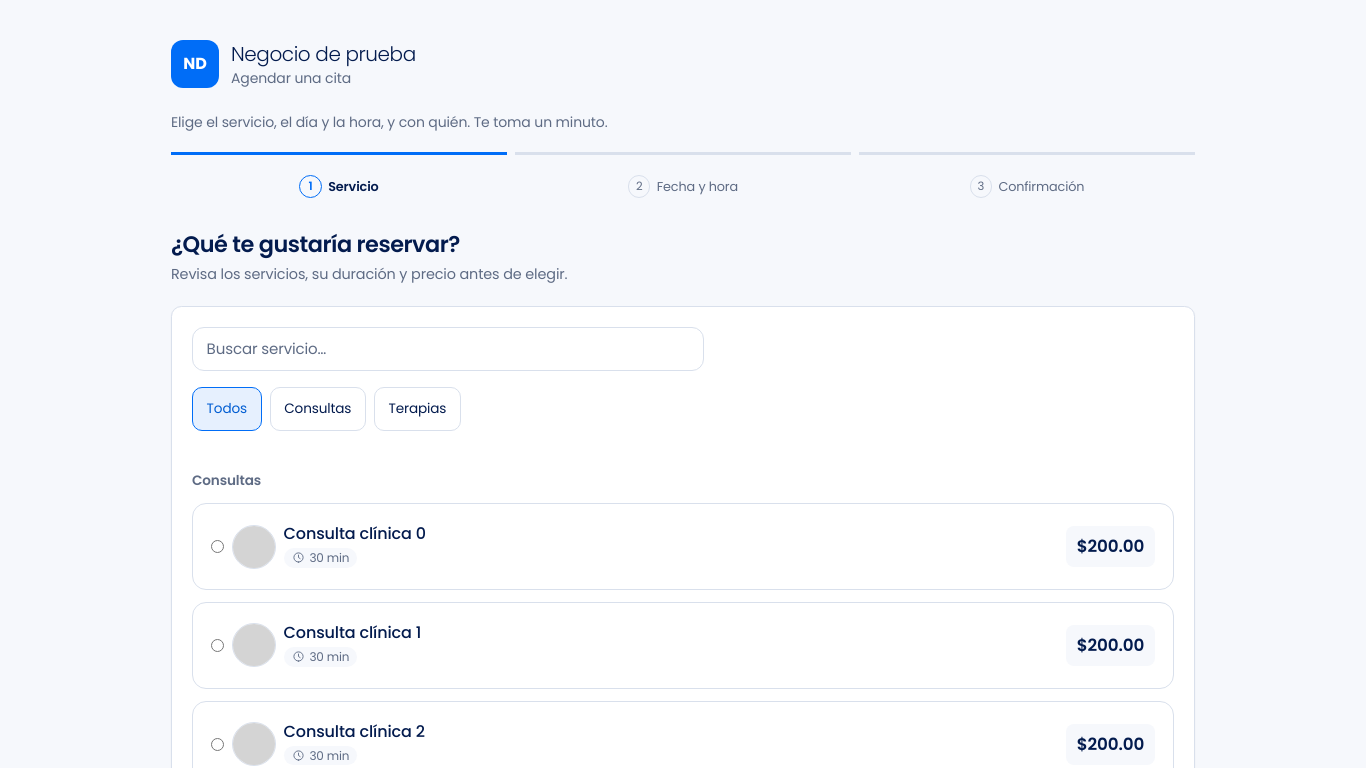
Test: agenda pública por pasos › busca sin distinguir acentos y filtra catálogos grandes por categoría
Type "clinica" into the search field with placeholder "Buscar servicio…" at (448, 349), box [192, 327, 704, 371]
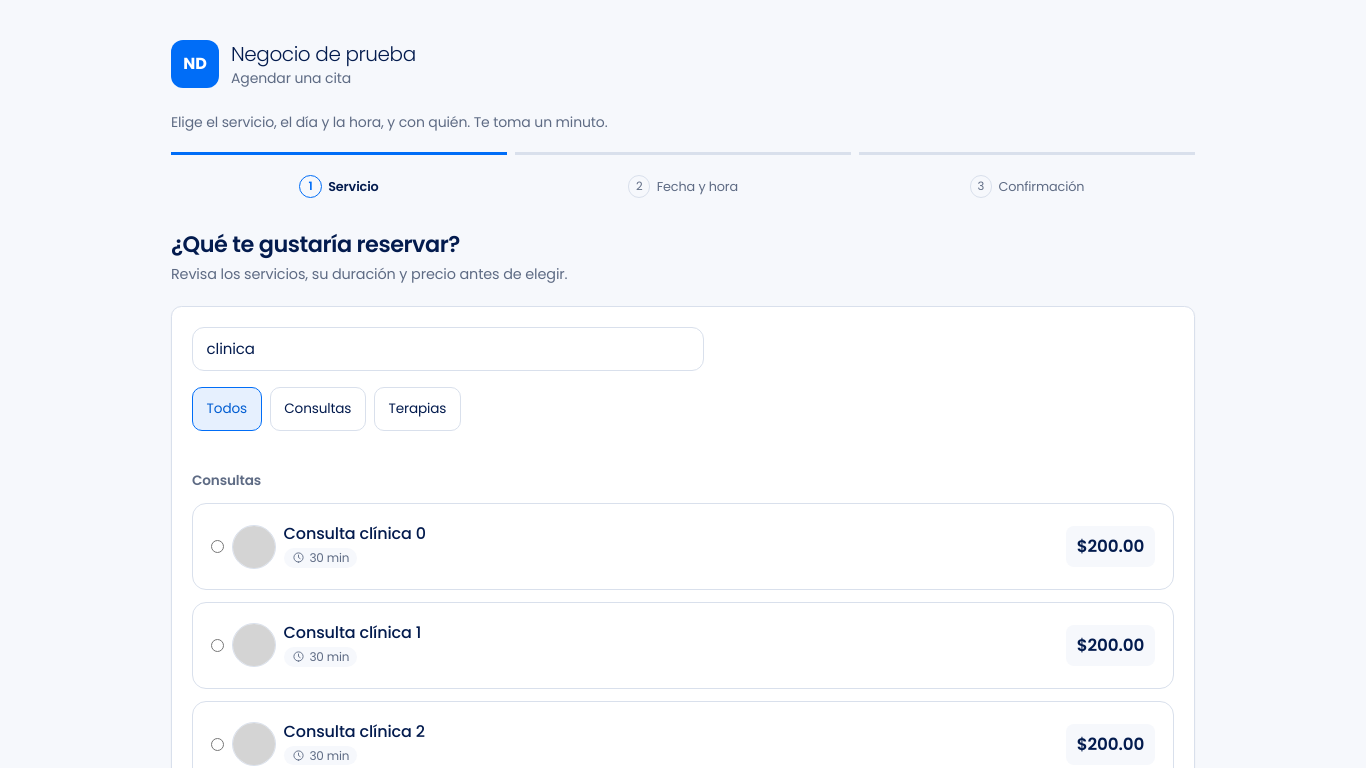
Click the button "Terapias" at (417, 409), box [374, 387, 461, 431]
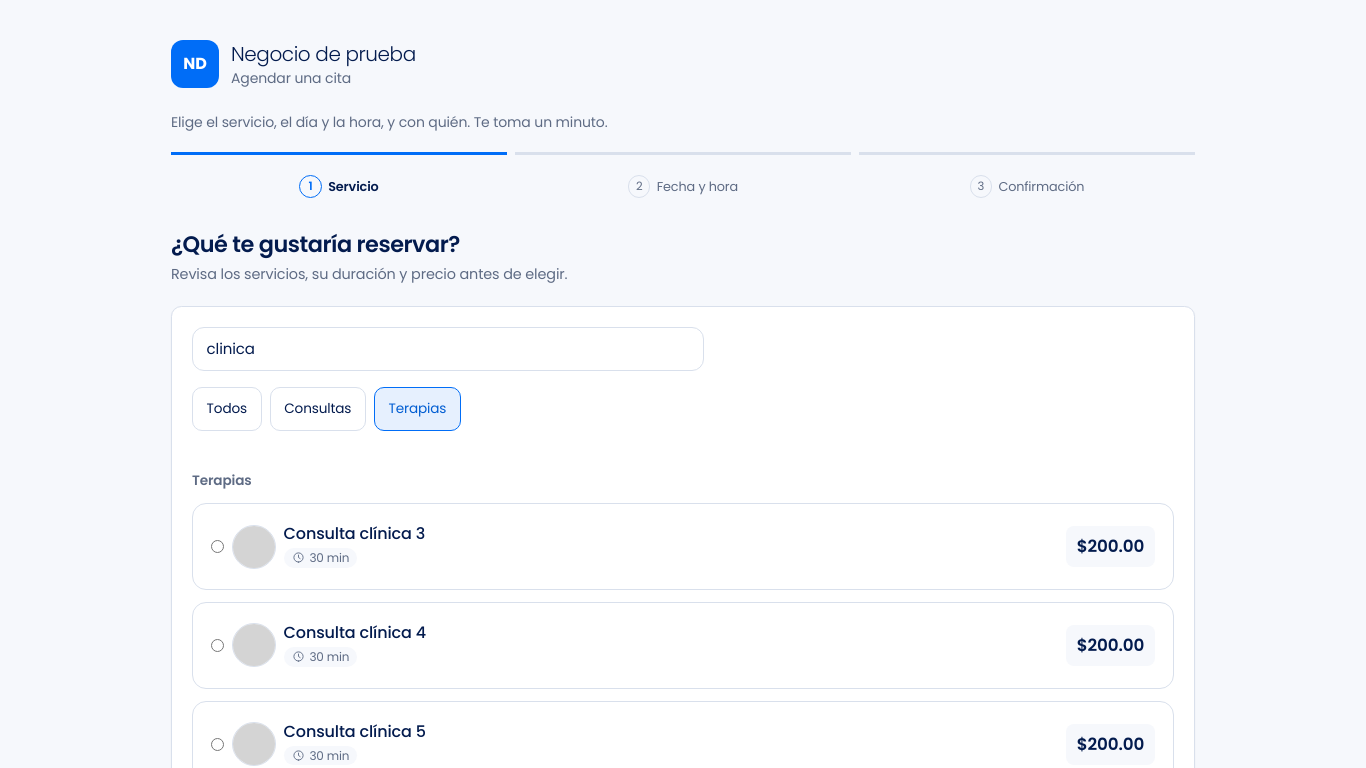
Expected: the number of radio buttons named "servicio" is 3, [211, 540, 224, 553]; [211, 639, 224, 652]; [211, 738, 224, 751]
Replace the text in the search field with "inexistente" at (448, 349), box [192, 327, 704, 371]
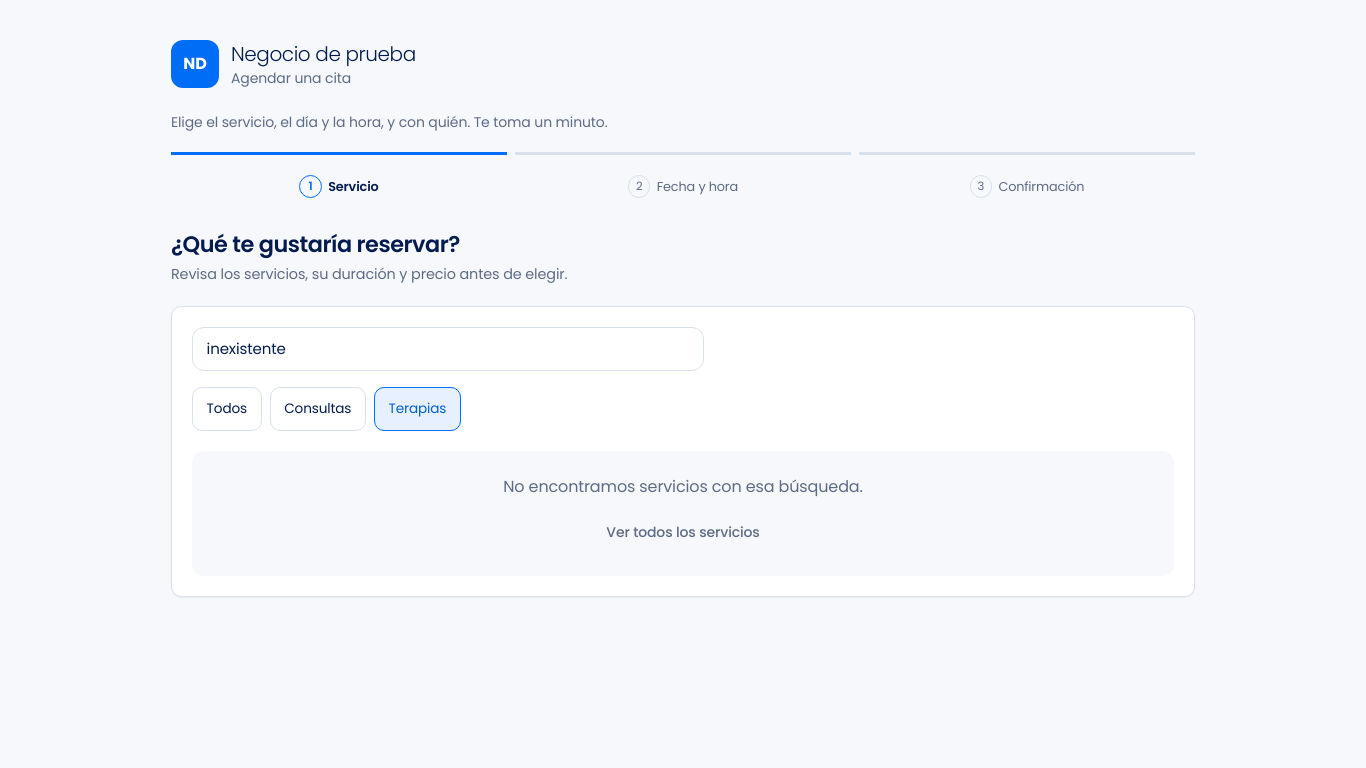
Now the message "No encontramos servicios con esa búsqueda. Ver todos los servicios" is shown, box [192, 451, 1174, 576]
Click the button "Ver todos los servicios" at (683, 532), box [596, 512, 770, 552]
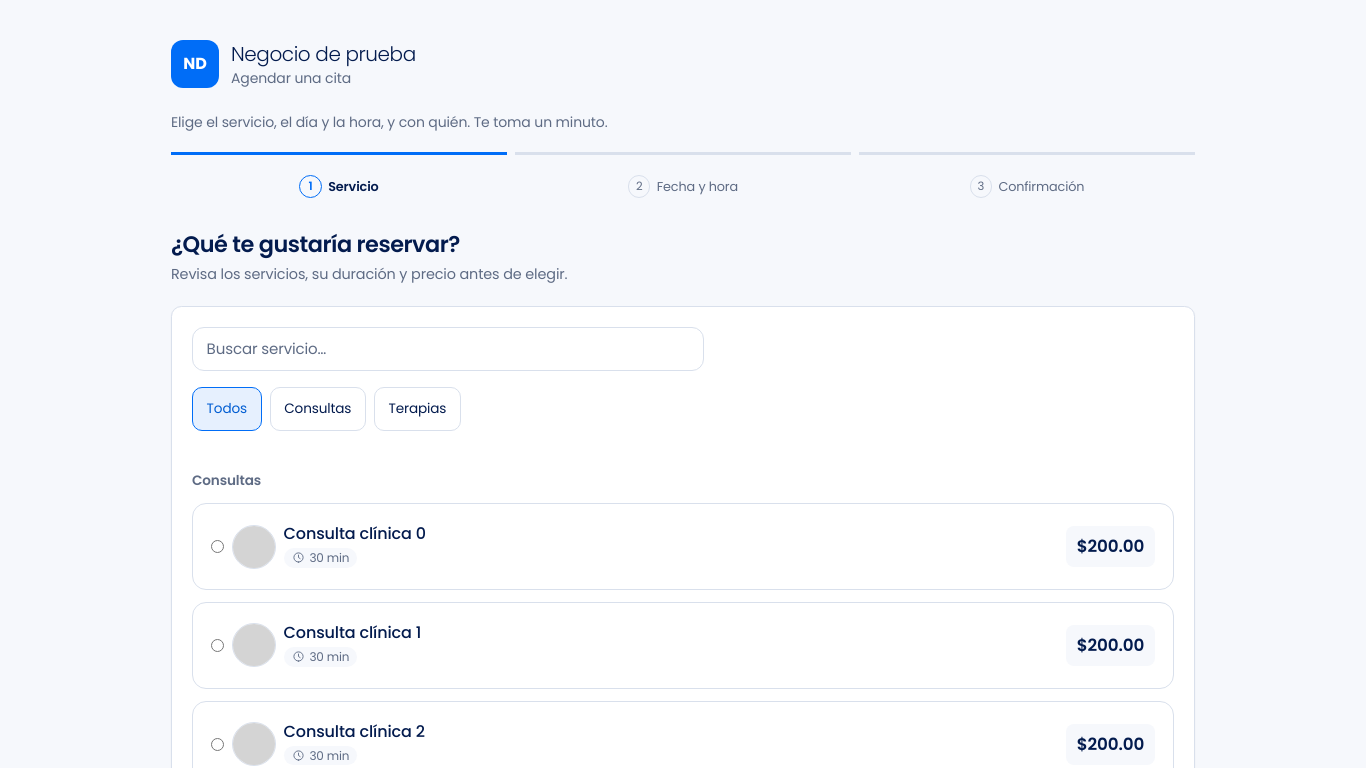
Now the number of radio buttons named "servicio" is 6
